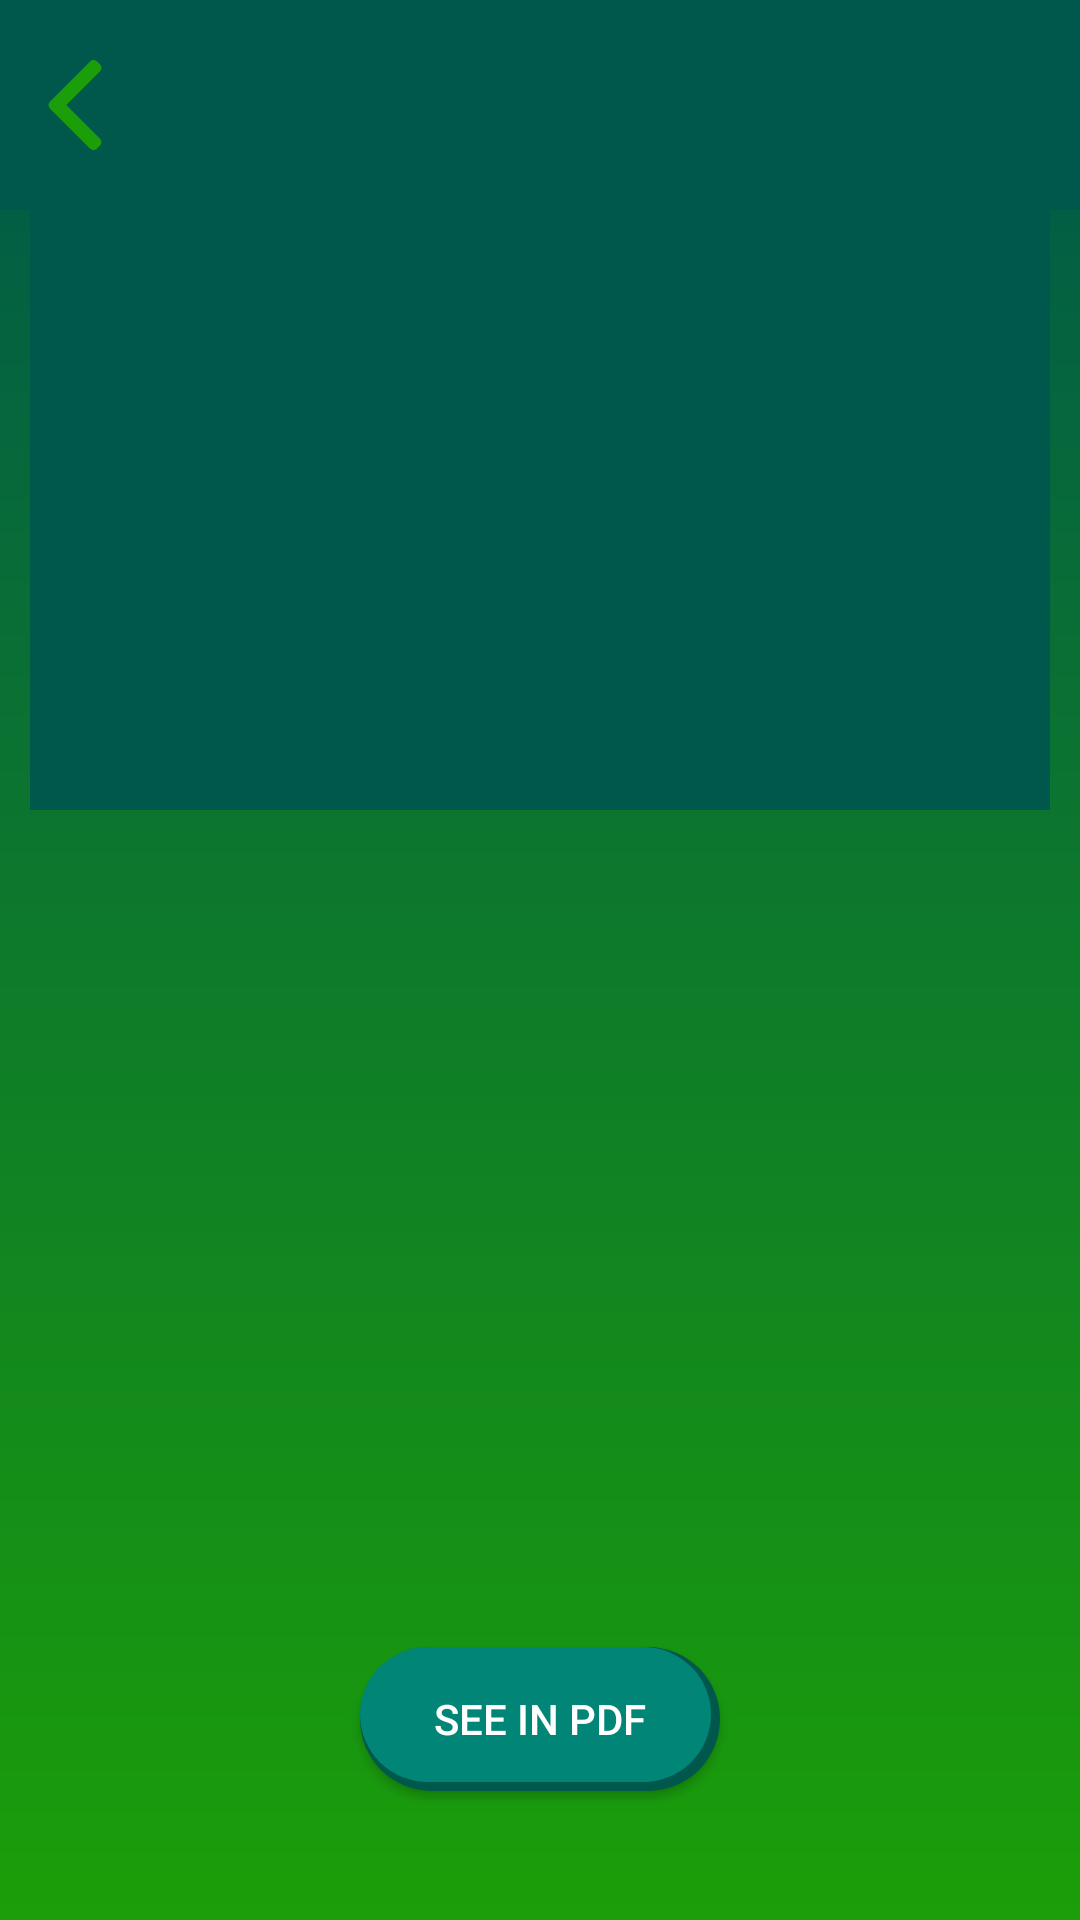

Locate icon controls on the screen. Image size 1080px×1920px, boxes as (x1, y1, x2, y2).
left arrow: (48, 60, 102, 150)
